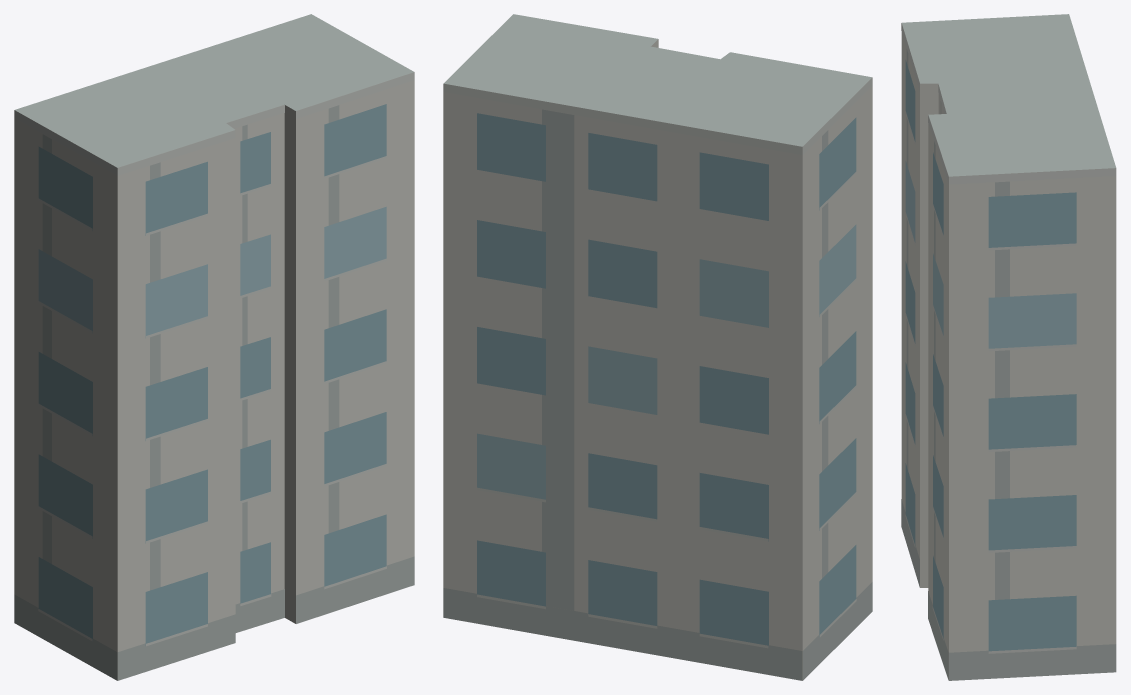
The model's file is survey-upis-32810561.glb.
The picture shows the model from 3 angles, left to right: view 1: azimuth 30°, elevation 25°; view 2: azimuth 150°, elevation 25°; view 3: azimuth 270°, elevation 25°; orthographic projection. The views are drawn at different scales.
Visible parts, largest first — view 1: survey-upis-32810561.tmp; view 2: survey-upis-32810561.tmp; view 3: survey-upis-32810561.tmp.
Part boxes in pixels (<box>): survey-upis-32810561.tmp: <box>14,14,414,680</box>; survey-upis-32810561.tmp: <box>443,14,872,680</box>; survey-upis-32810561.tmp: <box>901,14,1116,680</box>.
Size of the model in its own units: 10.56 by 15.25 by 5.9.
